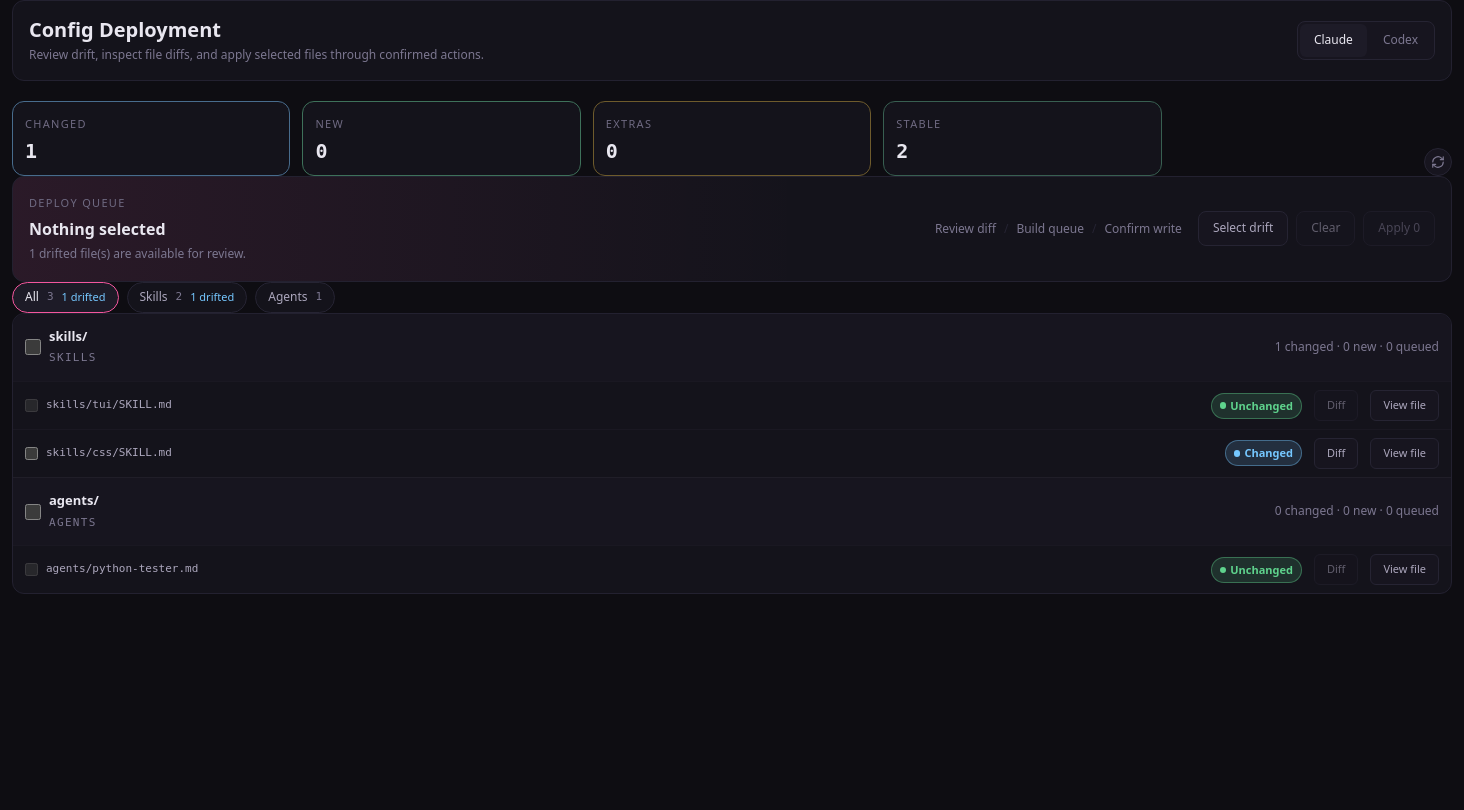
Deploy config tree › narrows the tree to one config group
Expected: the text "agents/" is shown, [49,491,99,509]
Click the tab "Agents 1". click: (295, 297)
box: [255,282,335,313]
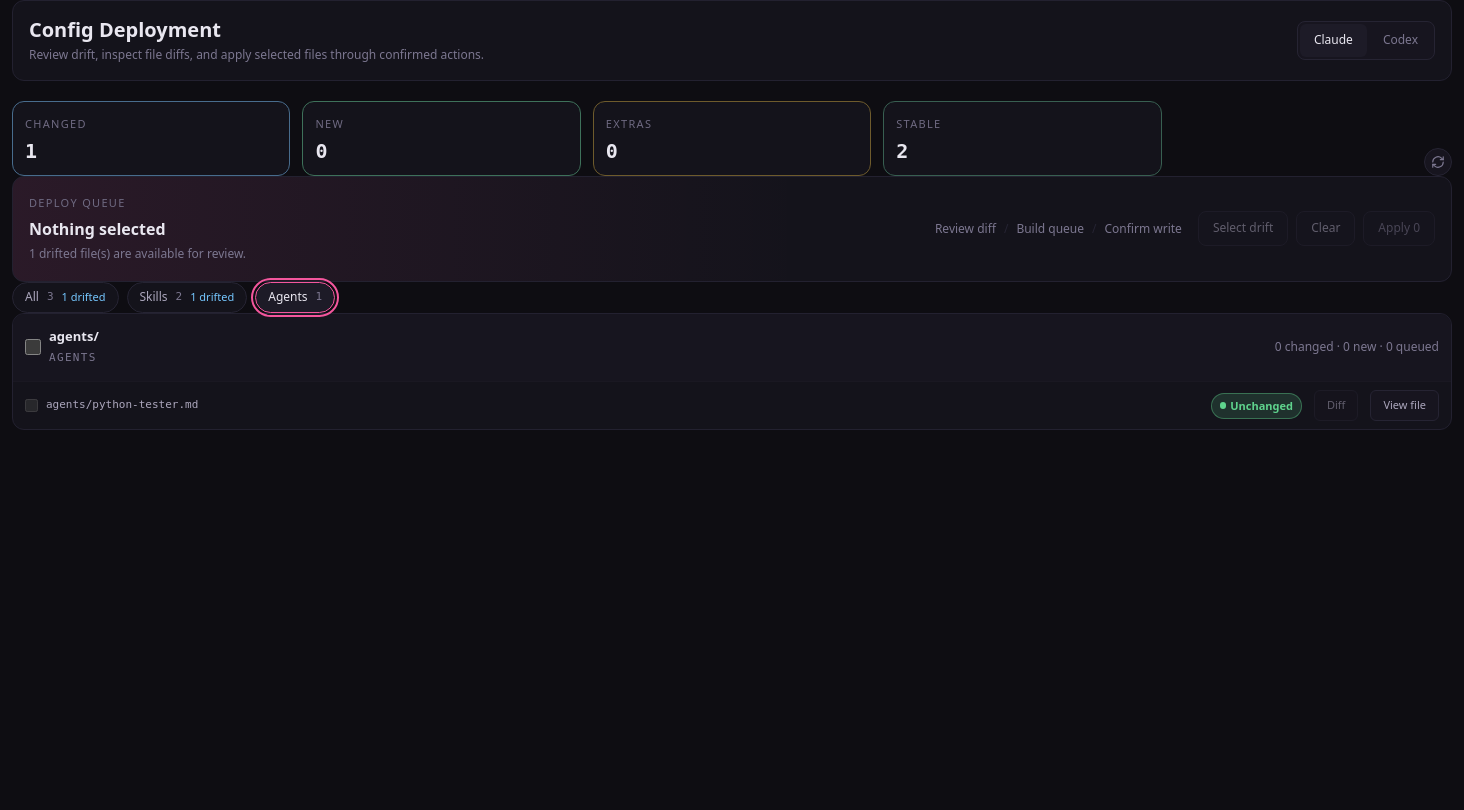
Expected: the text "agents/" is shown, [49,327,99,345]
Result: the text "skills/" is gone
Result: the button "Select drift" is disabled at [1198,211,1288,246]
